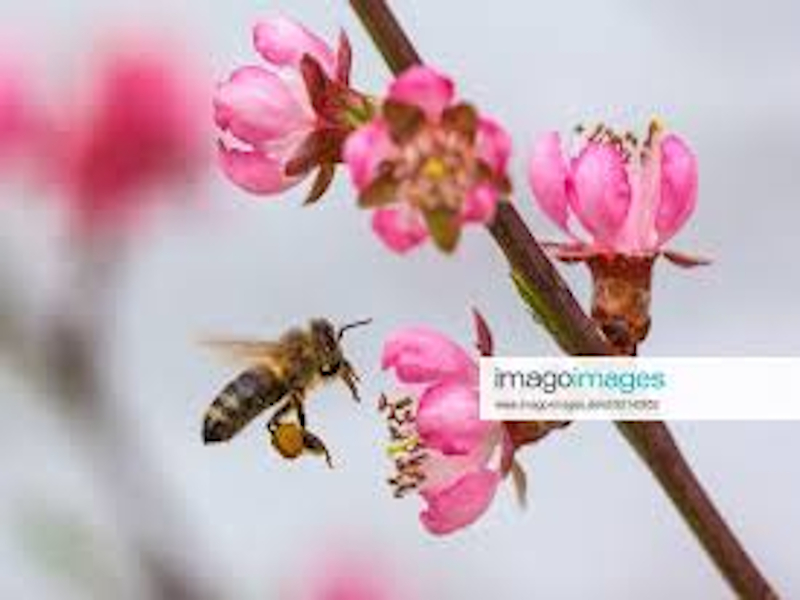abeja: (168, 288, 379, 471)
